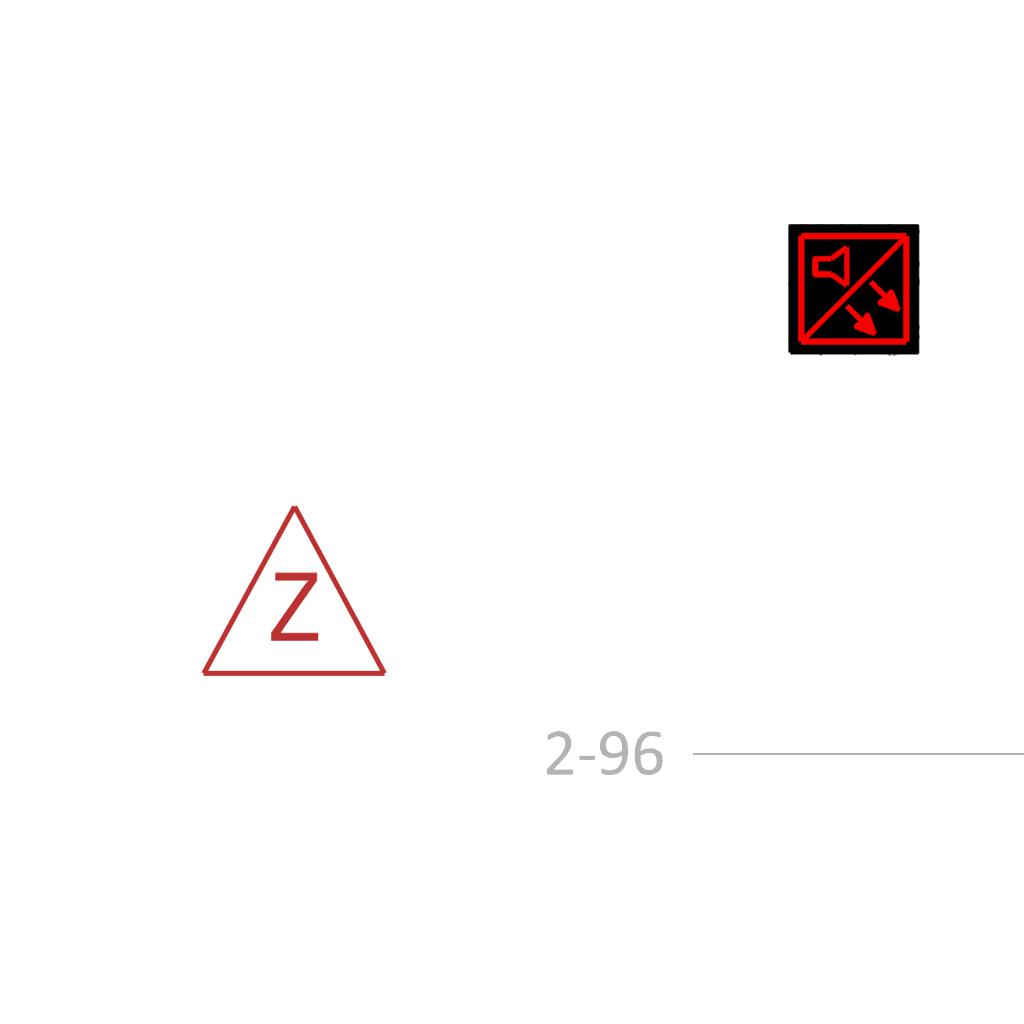OKW_Multisensormelder_(Kombination_optischer_Rauch-Kahlenmonoxid_Waerme-Melder): (788, 224, 920, 356)
Zimmersignalleuchte: (194, 491, 390, 691)
